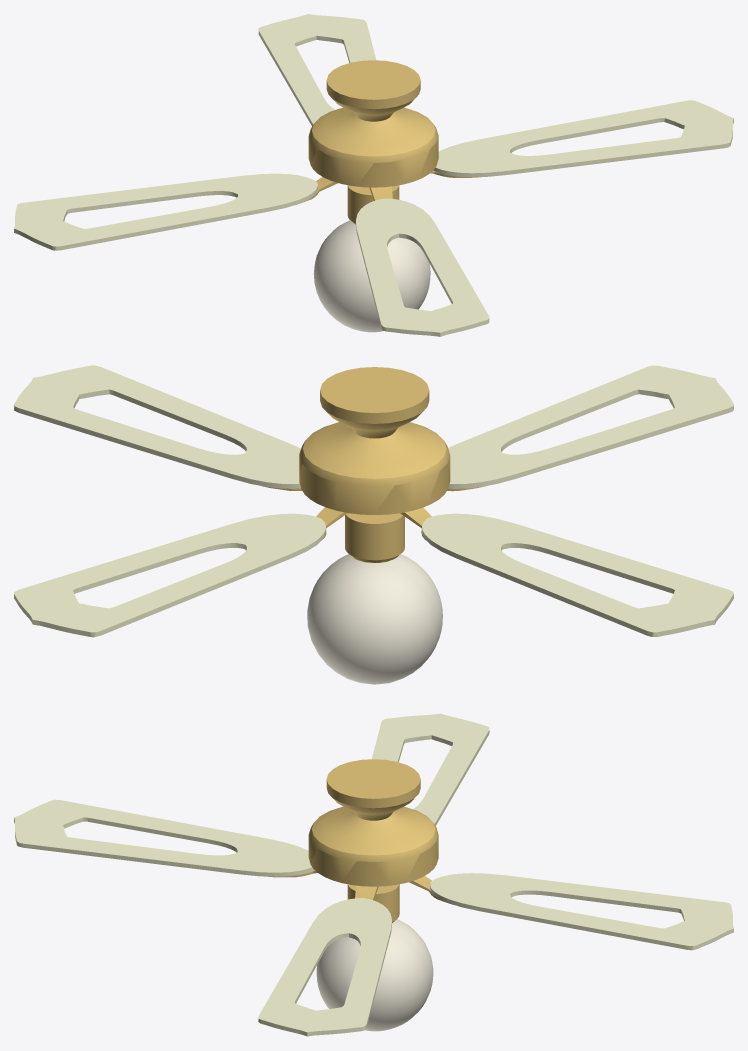
File: Lamp.fbx
The picture shows the model from 3 angles, top to bottom: view 1: azimuth 30°, elevation 25°; view 2: azimuth 150°, elevation 25°; view 3: azimuth 270°, elevation 25°; orthographic projection. The views are drawn at different scales.
Visible parts, largest first — view 1: Lamp; view 2: Lamp; view 3: Lamp.
Part boxes in pixels (bbox=[...]): Lamp: bbox=[14, 14, 733, 336]; Lamp: bbox=[14, 365, 733, 684]; Lamp: bbox=[14, 713, 733, 1036].
Size of the model in its own units: 108 by 38.99 by 103.
